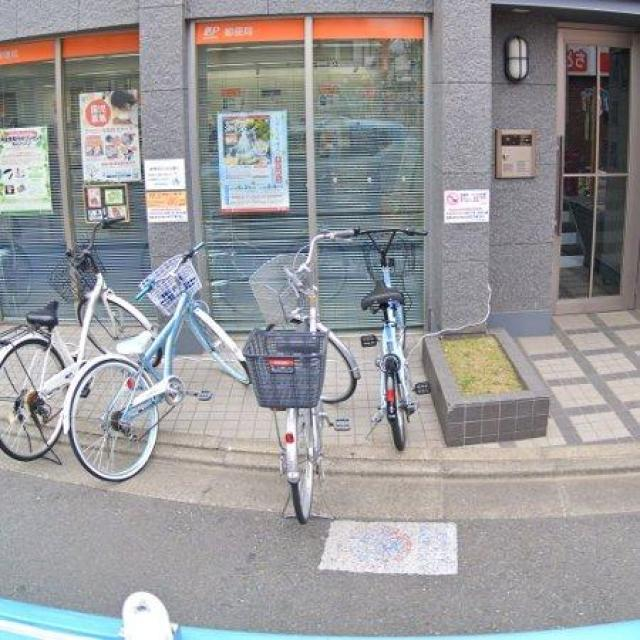bicycle: (1, 222, 250, 483), (244, 231, 362, 525), (322, 230, 432, 453)
